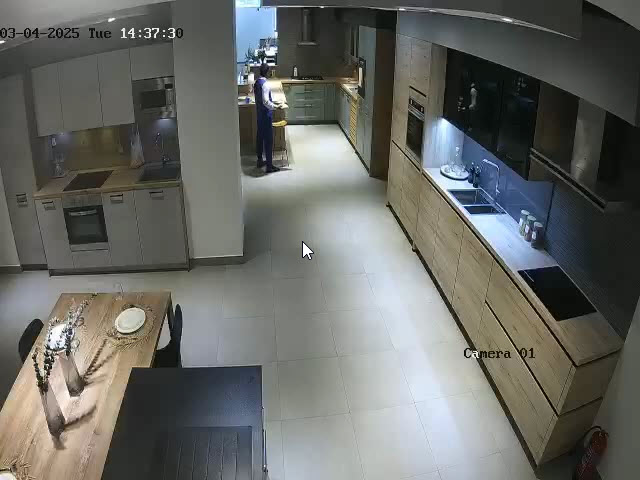employee: (253, 63, 281, 173)
